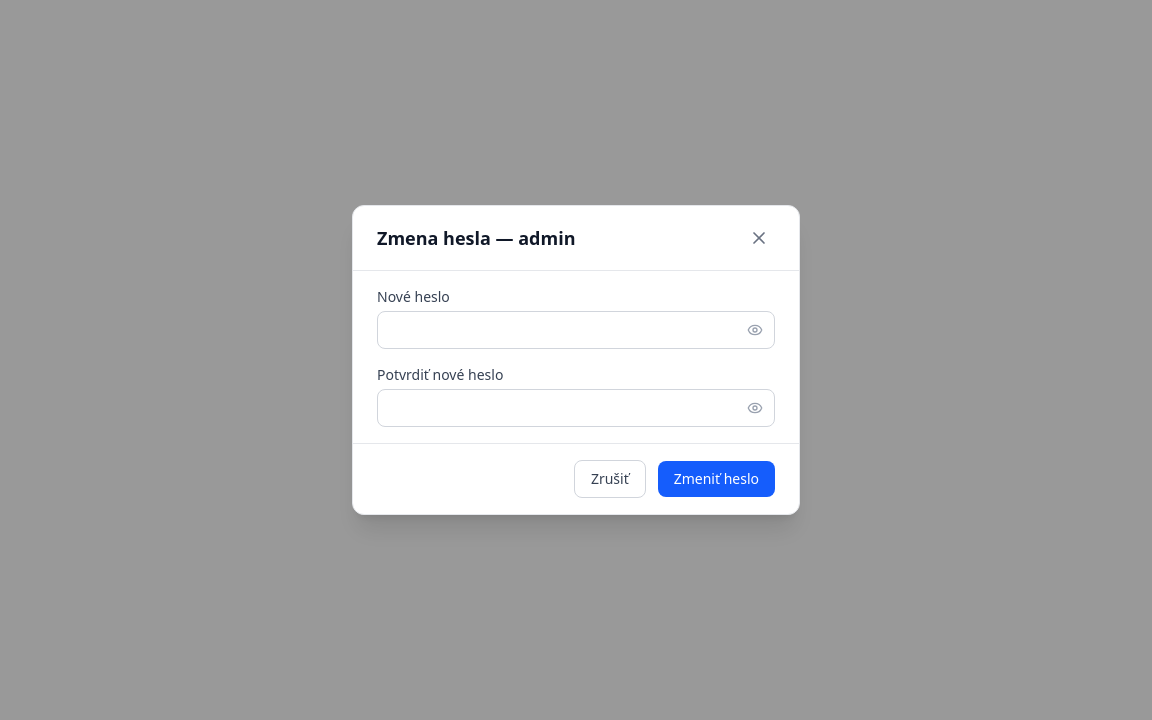
Test: ChangePasswordDialog — Admin mode › shows validation error when passwords do not match
The image size is (1152, 720).
Type "password123" into the 1st password field at (576, 330), box [377, 311, 775, 349]
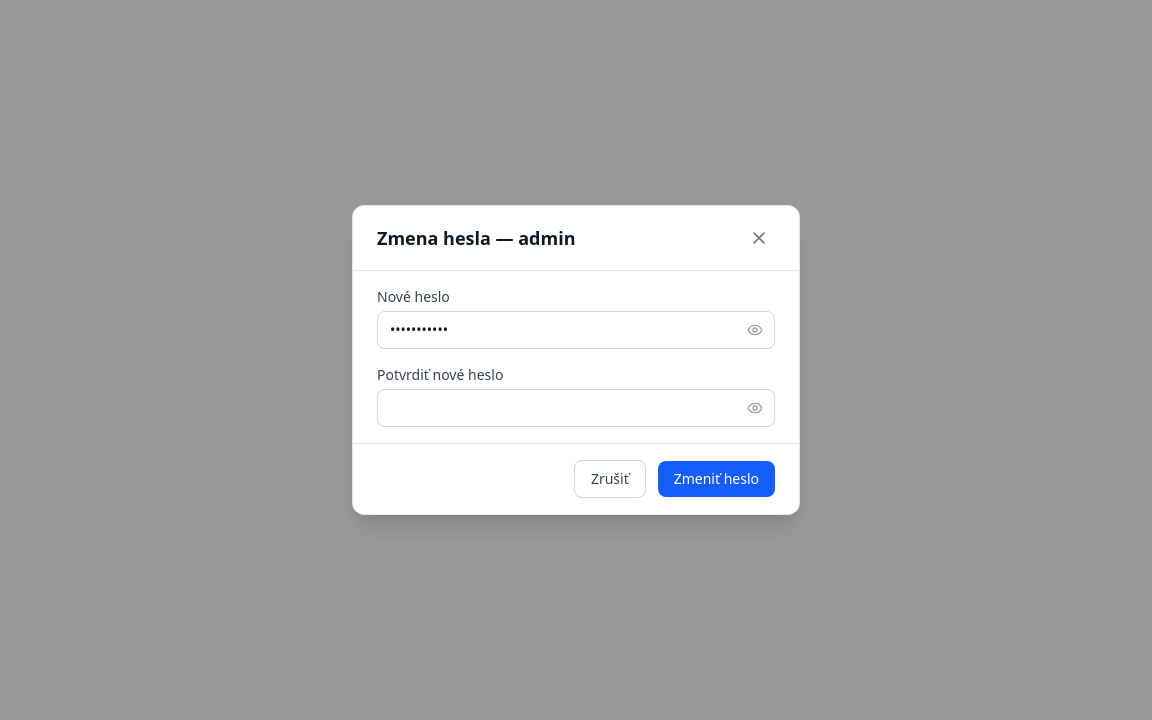
Type "different" into the password field below "Potvrdiť nové heslo" at (576, 408), box [377, 389, 775, 427]
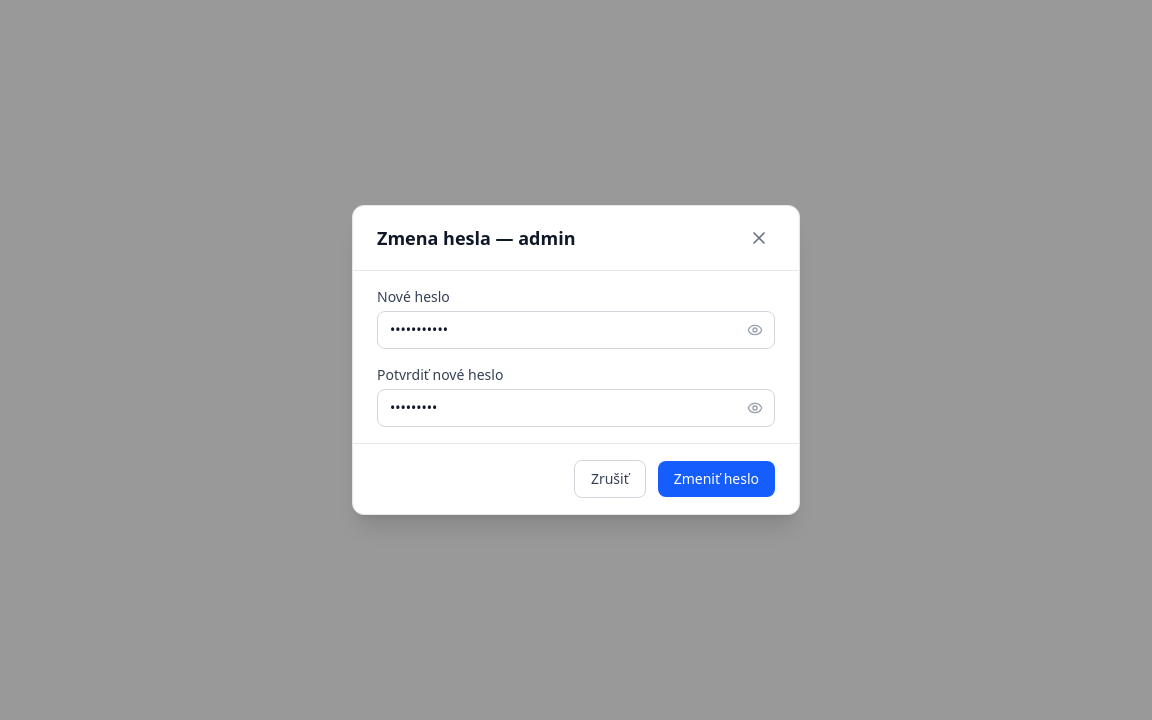
Click the button "Zmeniť heslo" at (716, 479), box [658, 461, 775, 497]
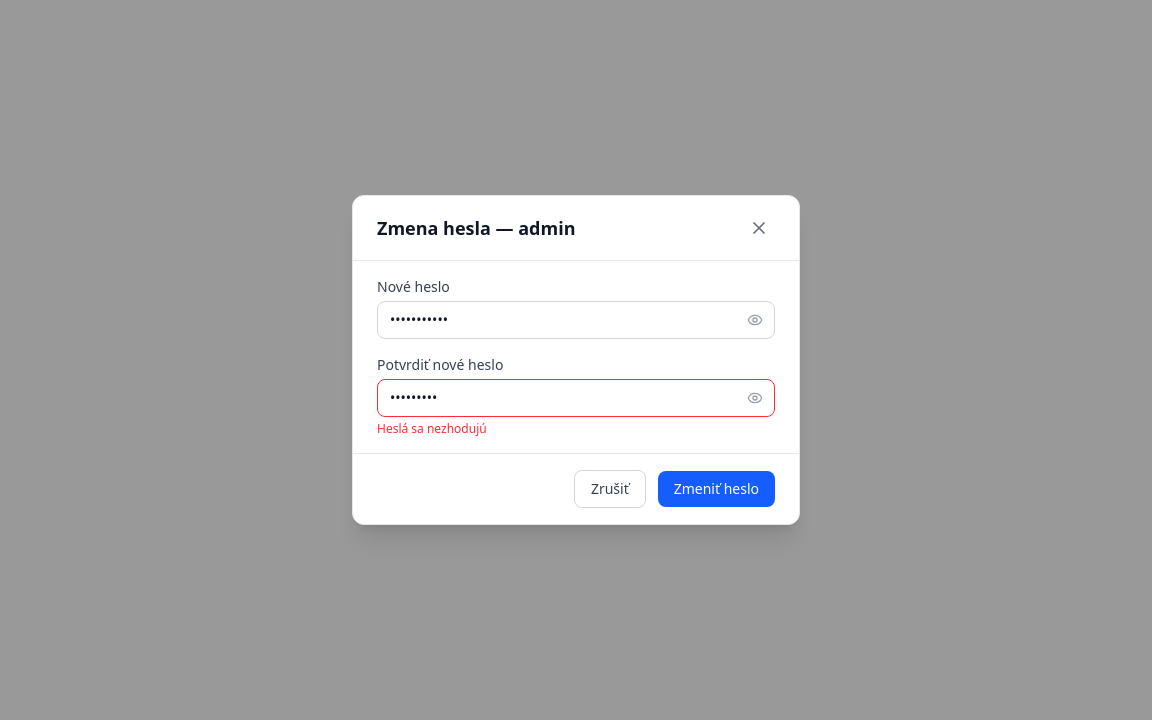
Expected: the text "Heslá sa nezhodujú" is shown, [377, 420, 487, 437]
